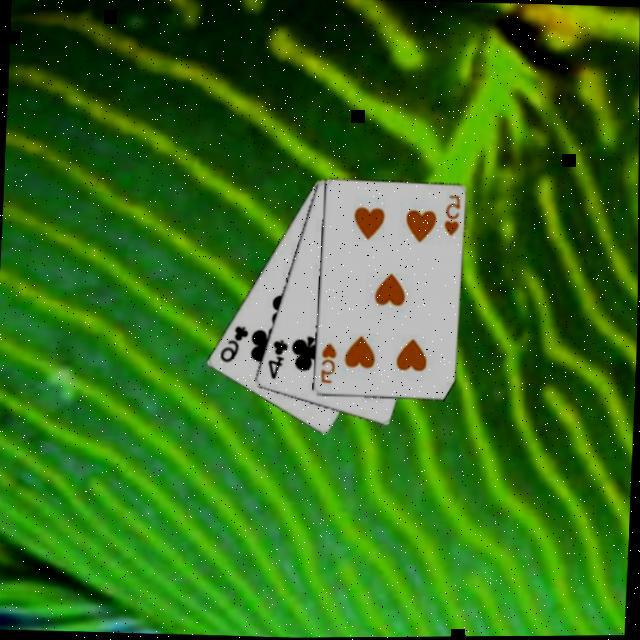4C: (263, 338, 290, 384)
5H: (438, 194, 462, 242), (316, 342, 338, 389)
9C: (215, 323, 250, 368)
